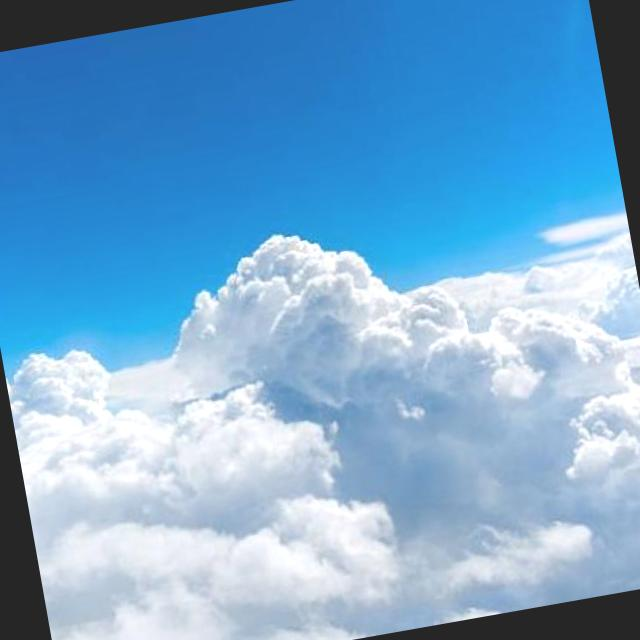cumulus: (7, 278, 640, 640)
